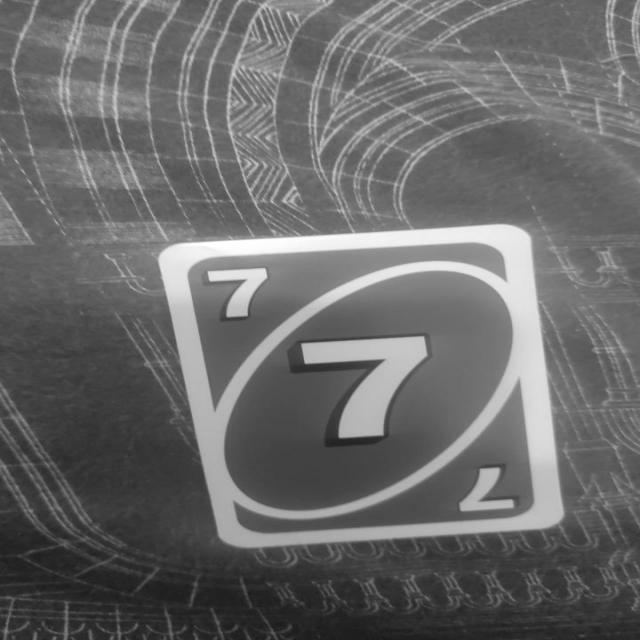card_7: (156, 223, 564, 548)
